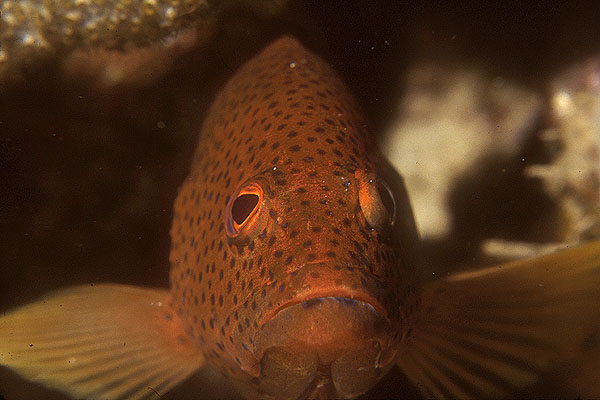Cephalopholis_fulvaw: (48, 23, 551, 400)
